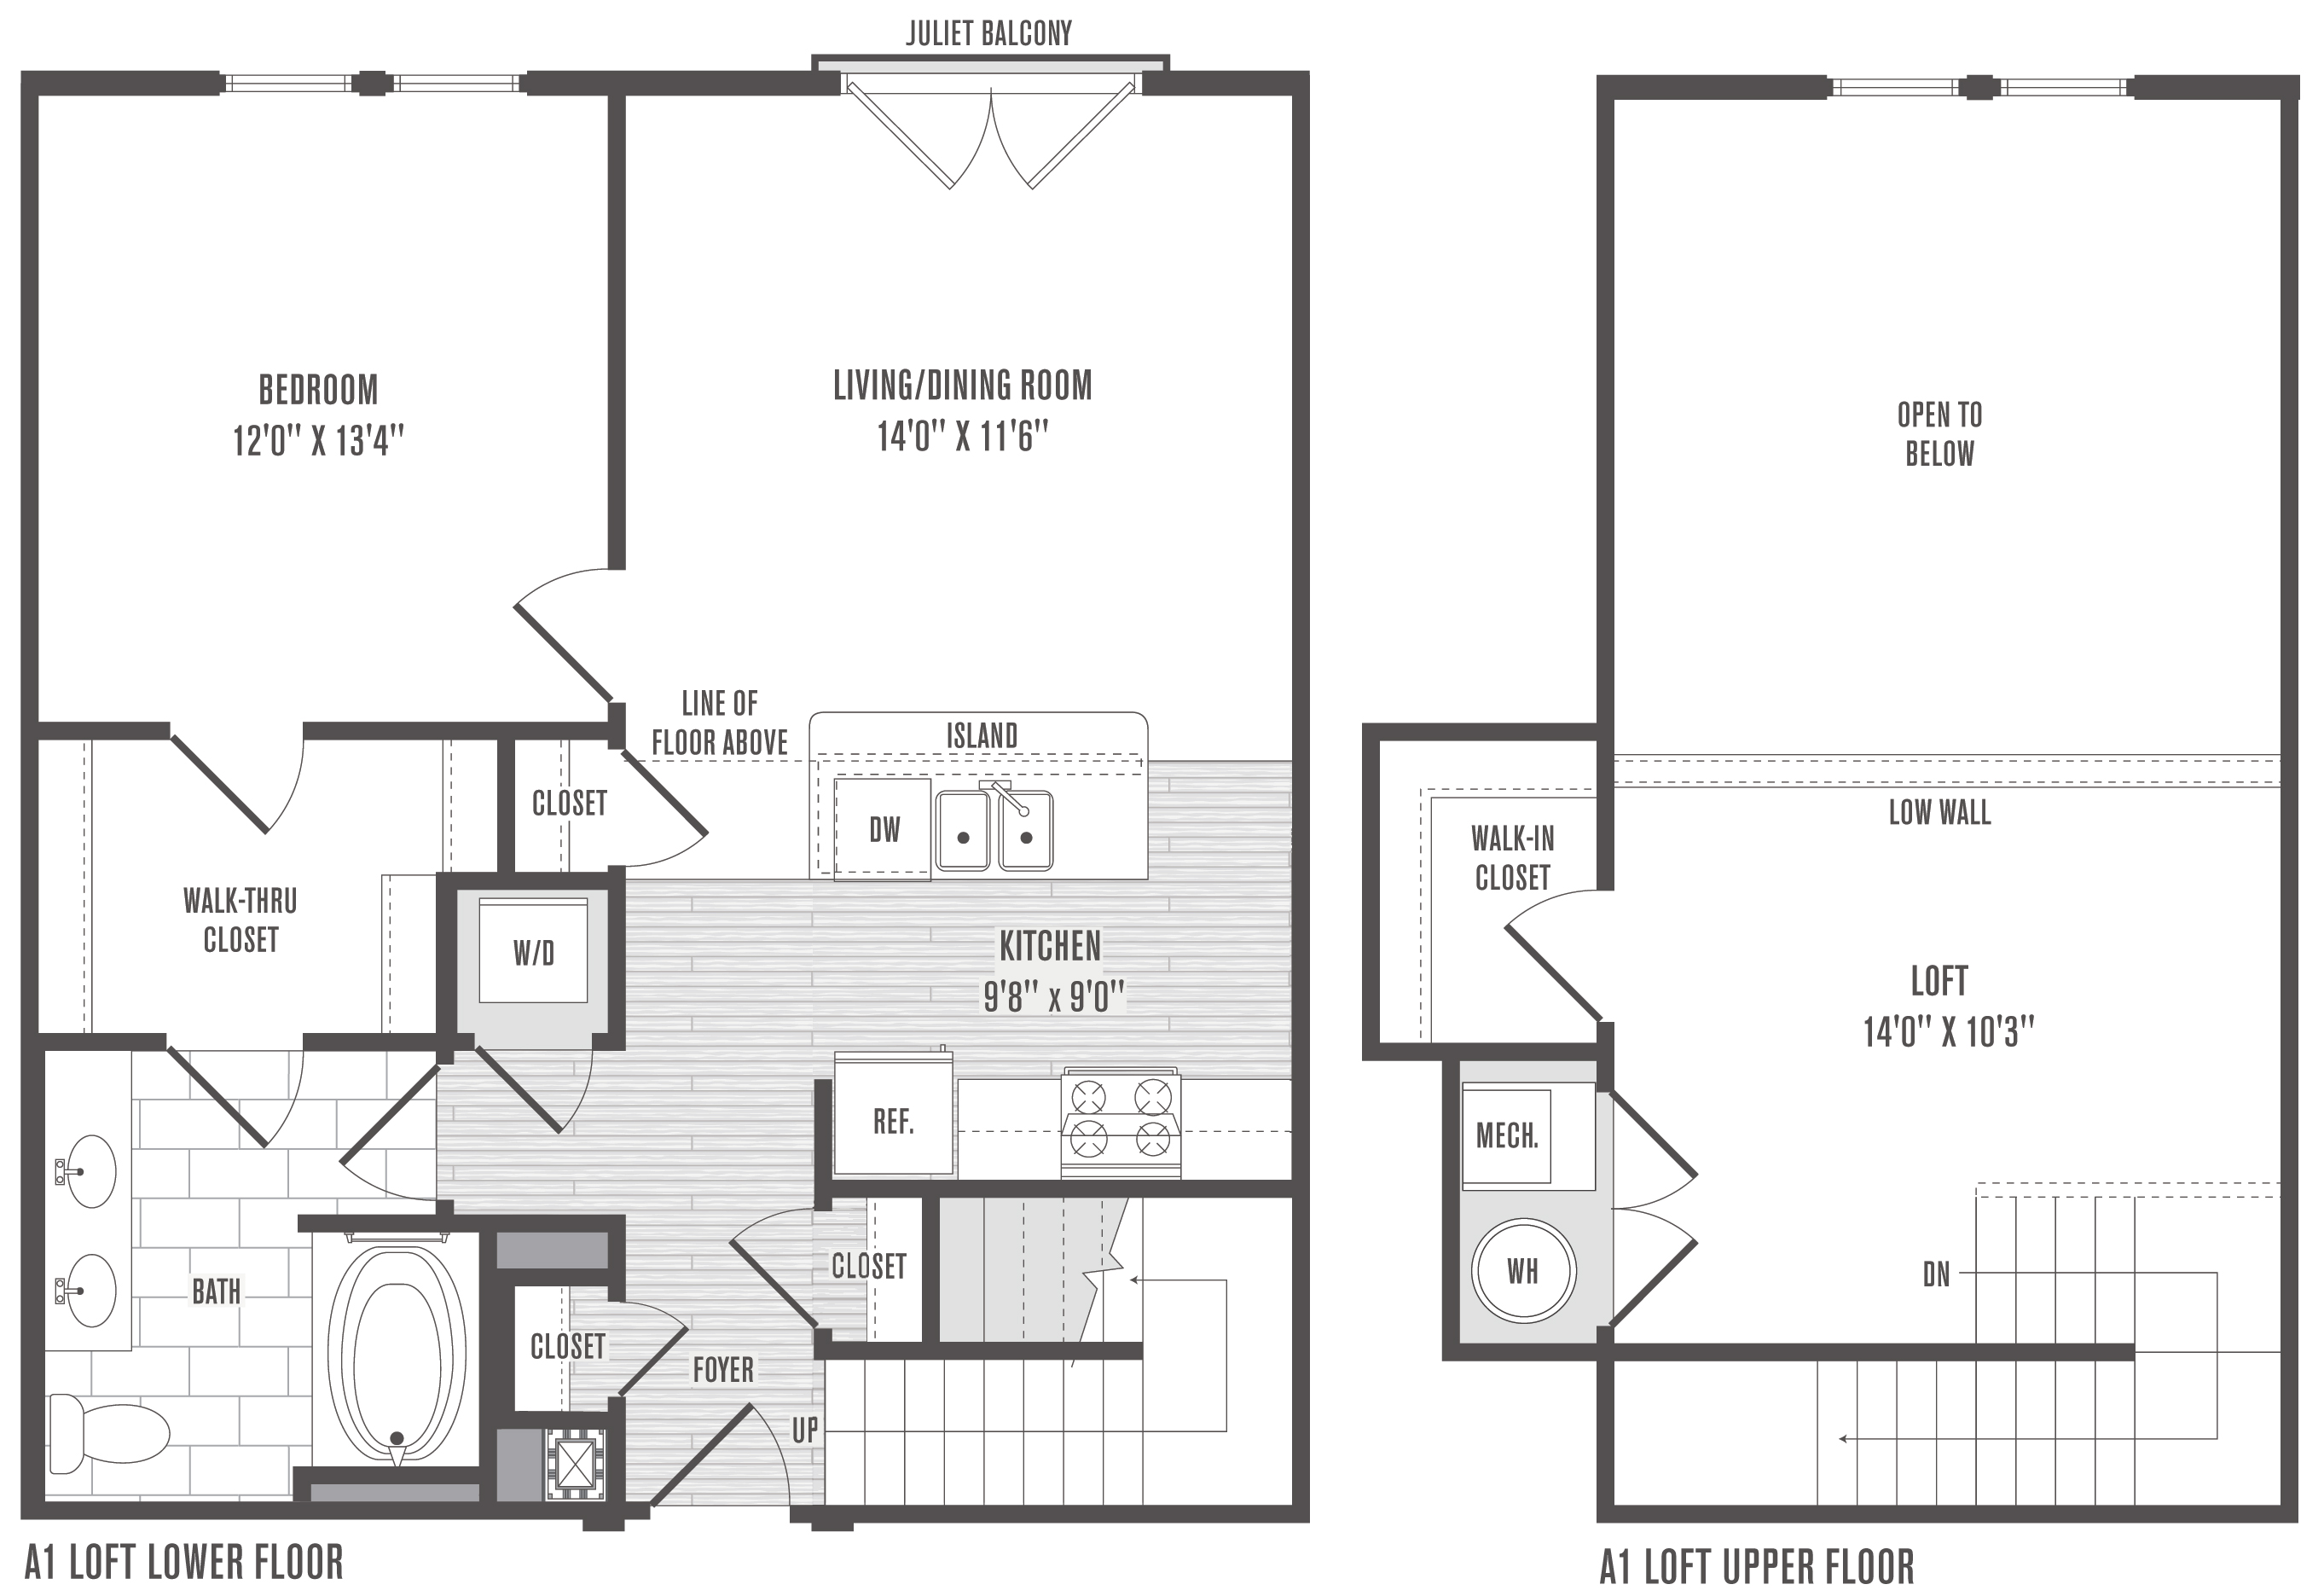wall: (2285, 88, 2294, 1511), (39, 1501, 620, 1517), (809, 1504, 1300, 1518), (1616, 1509, 2294, 1515), (28, 81, 34, 733), (1621, 1345, 2130, 1351), (441, 872, 630, 886), (611, 83, 616, 563), (32, 1049, 37, 1504), (300, 1222, 615, 1227), (828, 1188, 1300, 1192), (526, 78, 839, 83), (34, 738, 39, 1049), (925, 1197, 936, 1351), (1603, 94, 1605, 876), (39, 76, 224, 83), (441, 890, 447, 1100), (1452, 1054, 1455, 1356), (486, 1231, 489, 1518), (486, 1414, 620, 1421), (300, 1038, 472, 1043), (1374, 729, 1605, 733), (49, 1036, 159, 1043), (487, 1273, 616, 1278), (298, 1464, 486, 1467), (42, 727, 166, 733), (825, 1344, 1146, 1345), (313, 727, 615, 729), (1148, 78, 1294, 81), (1460, 1352, 1605, 1356), (1605, 1375, 1609, 1509), (1374, 1049, 1611, 1050), (1600, 83, 1822, 85), (2147, 76, 2294, 78), (620, 1421, 622, 1504)
